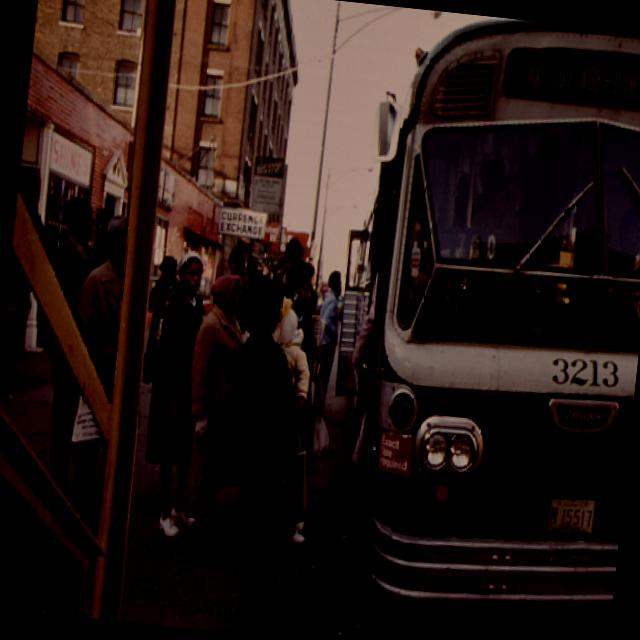Vehicle: (309, 4, 640, 624)
